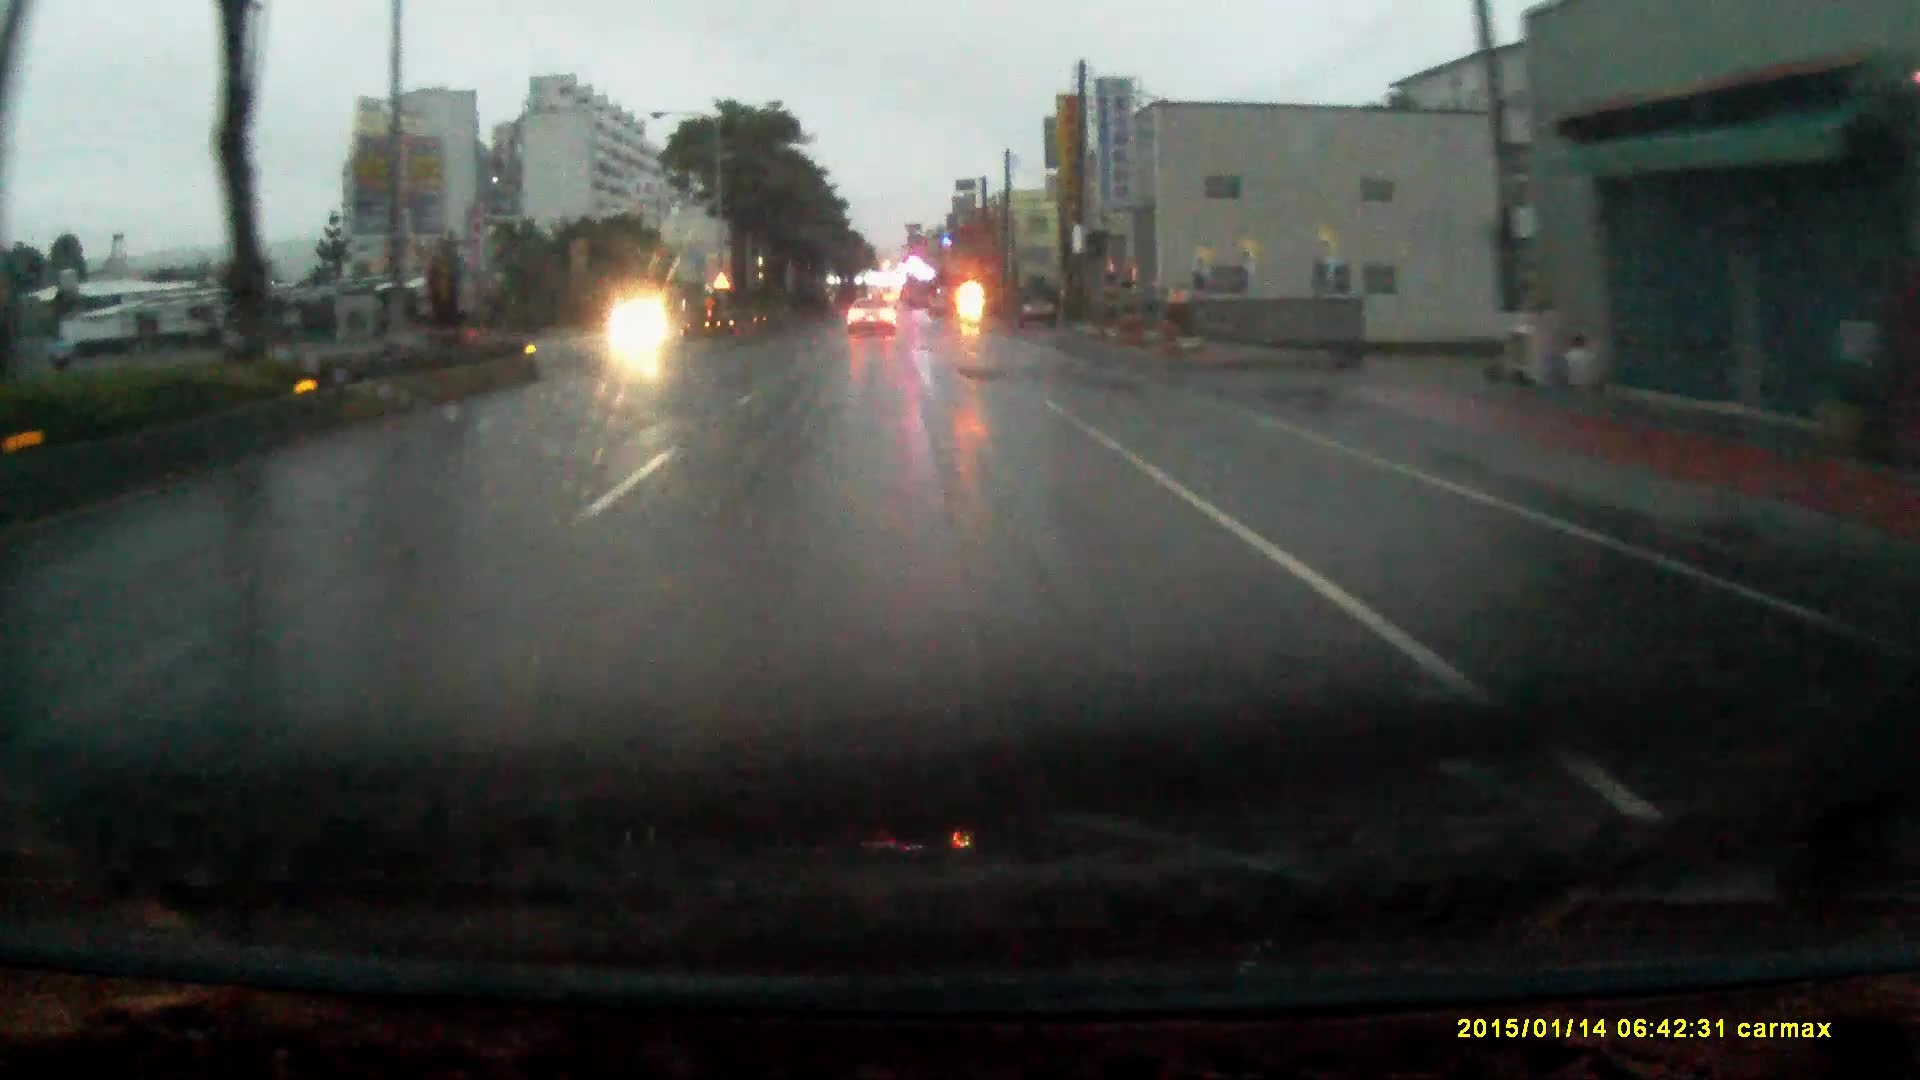vehicle: (847, 295, 898, 335), (1019, 286, 1056, 331)
